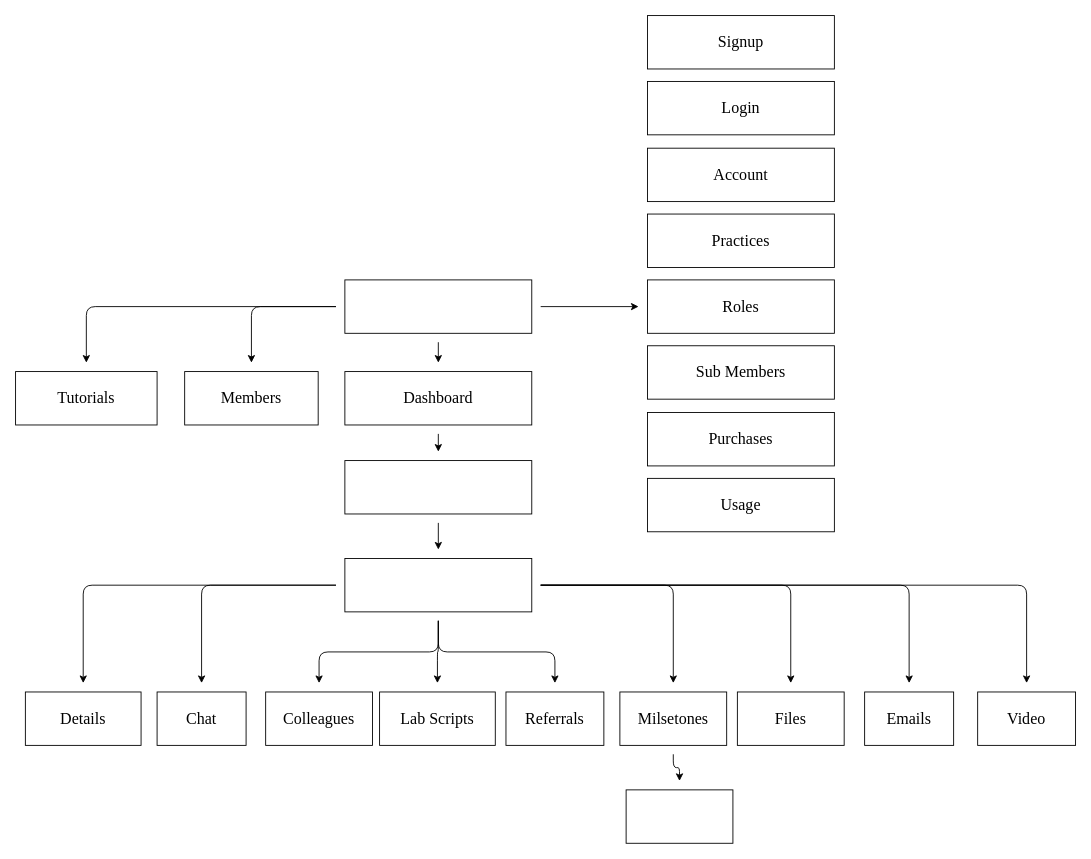
Some shapes in this 1091 by 859 pixel diagram are drawn without their labels. The centre of each missing label's shape, as x and y in pixels:
Cases: (x=438, y=585)
Patient: (x=438, y=487)
Tasks: (x=679, y=816)
User: (x=438, y=306)
